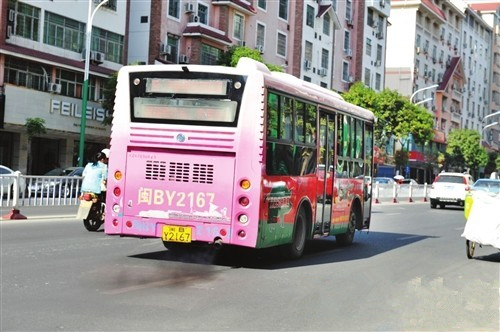smoke: (111, 249, 232, 290)
